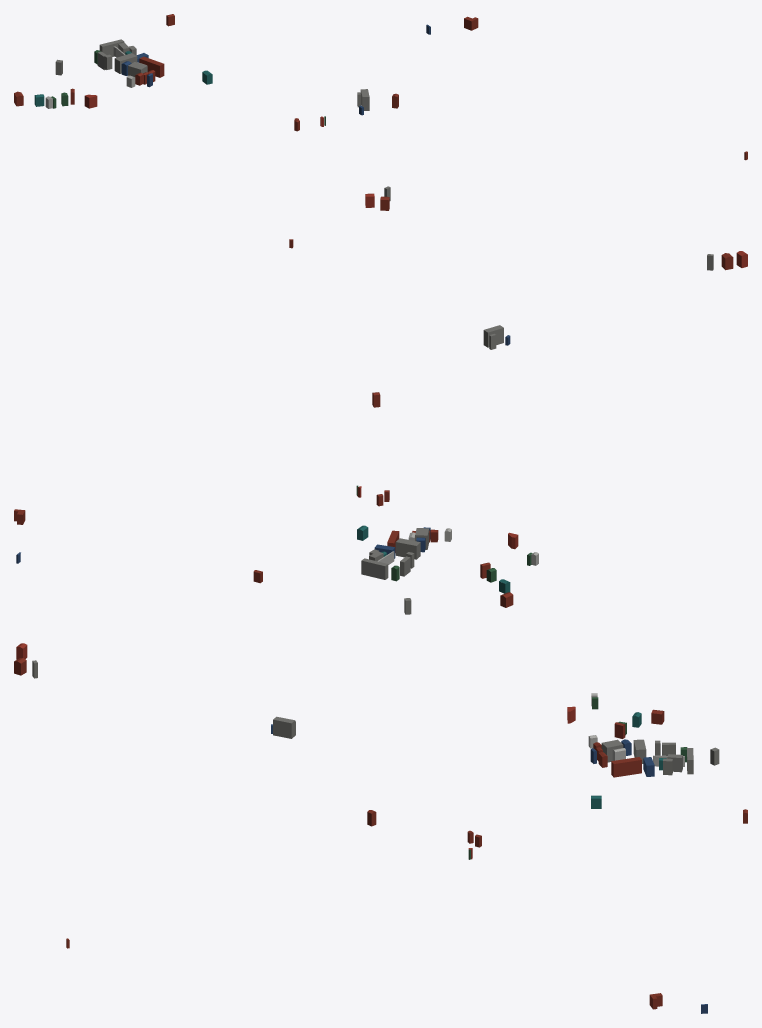
The model's file is near-15-27359-14873.33478575.glb.
3 views of the same model, one above another, from view 1: azimuth 30°, elevation 25°; view 2: azimuth 150°, elevation 25°; view 3: azimuth 270°, elevation 25° (orthographic). The views are drawn at different scales.
Size of the model in its own units: 904 by 280 by 1095.
